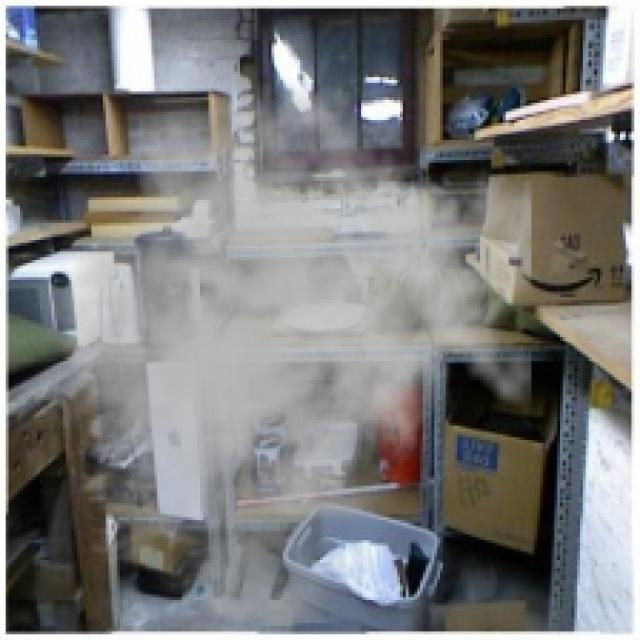Smoke: (14, 62, 532, 628)
